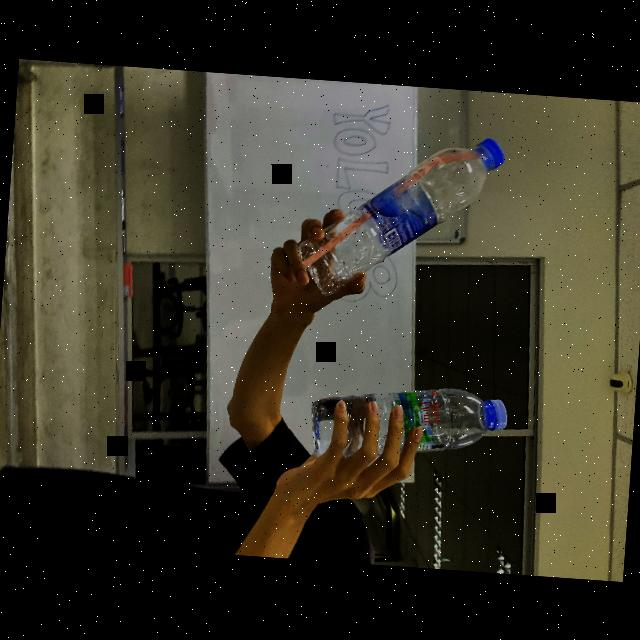plastic_bottle: (294, 126, 504, 306), (307, 378, 508, 470)
